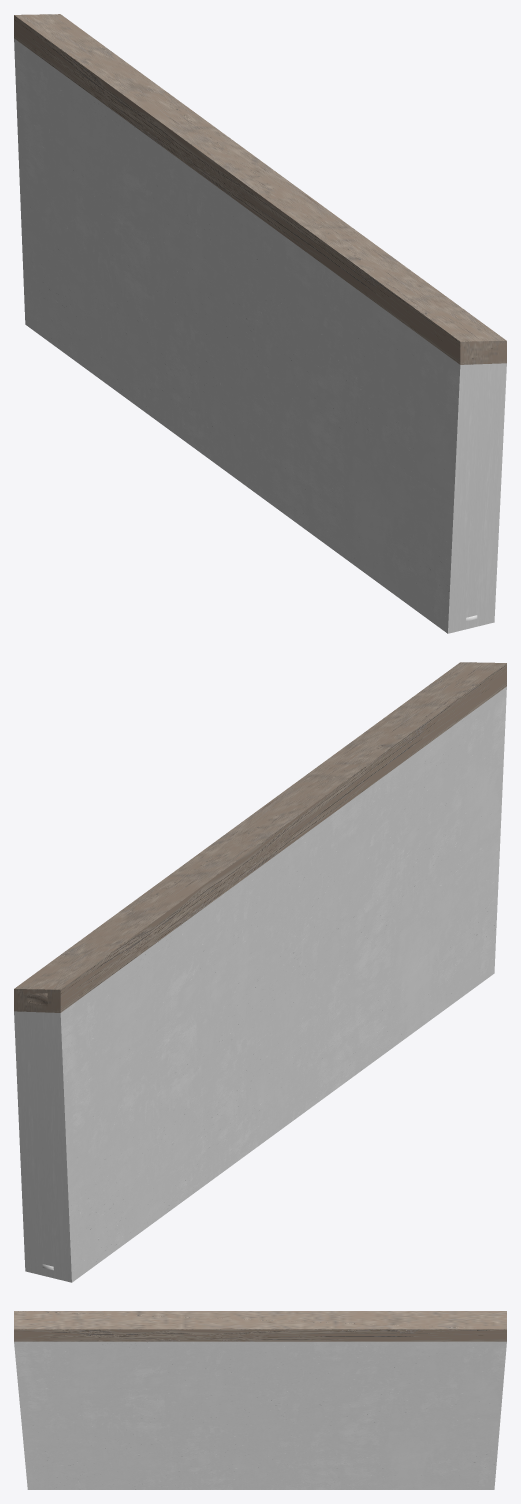
Rendered from si_harbour_railing.DAE.
The picture shows the model from 3 angles, top to bottom: view 1: azimuth 30°, elevation 25°; view 2: azimuth 150°, elevation 25°; view 3: azimuth 270°, elevation 25°; orthographic projection. The views are drawn at different scales.
Visible parts, largest first — view 1: Colmesh-1; view 2: Colmesh-1; view 3: Colmesh-1.
Part boxes in pixels (<box>): Colmesh-1: <box>14,14,506,633</box>; Colmesh-1: <box>14,662,506,1282</box>; Colmesh-1: <box>14,1311,506,1489</box>.
Bounding box in the file's own units: 18.25 × 303 × 113.
